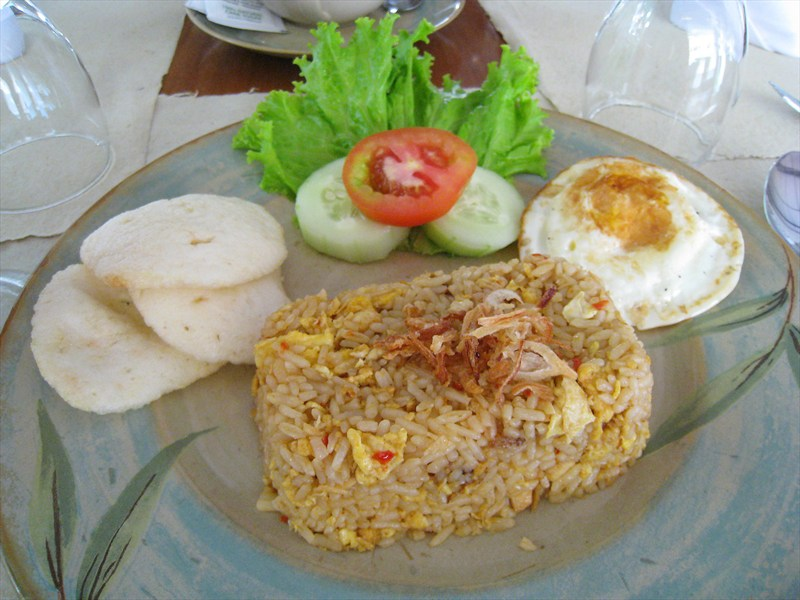Nasi Goreng: (227, 39, 688, 491)
